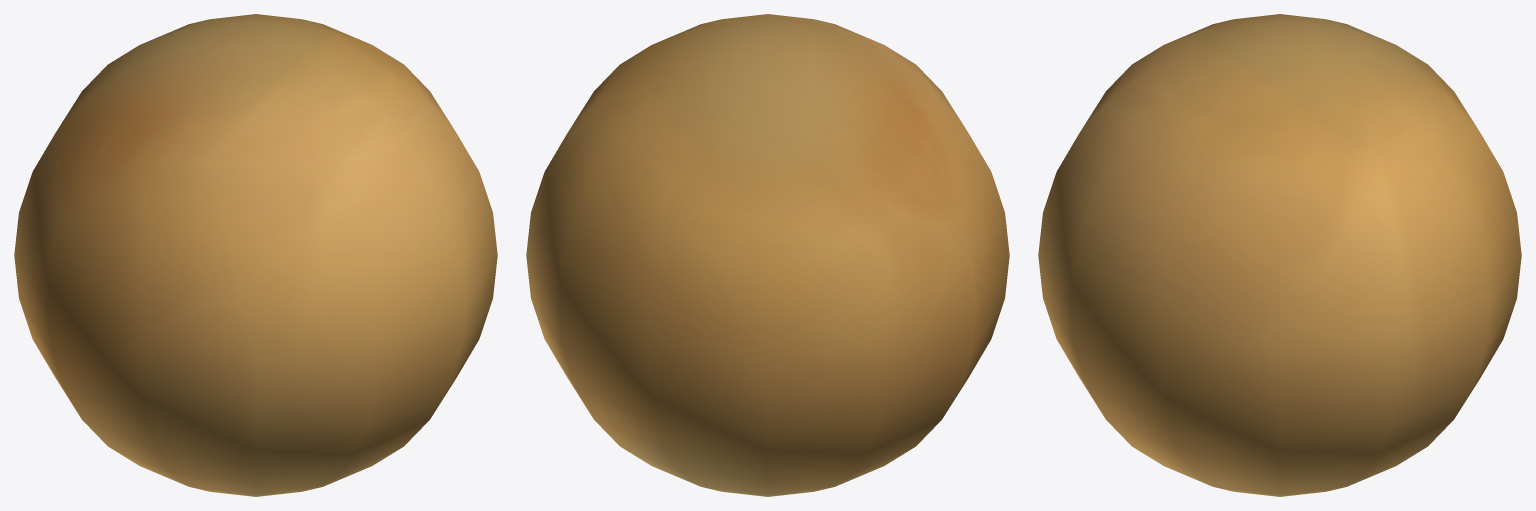
Rendered from planetas.fbx.
3 views of the same model, side by side, from view 1: azimuth 30°, elevation 25°; view 2: azimuth 150°, elevation 25°; view 3: azimuth 270°, elevation 25° (orthographic).
Visible parts, largest first — view 1: planeta; view 2: planeta; view 3: planeta.
Part boxes in pixels (x1,y1,x2,y2): planeta: (14,14,497,496); planeta: (526,14,1009,496); planeta: (1038,14,1521,496).
Bounding box in the file's own units: 200 × 200 × 200.
